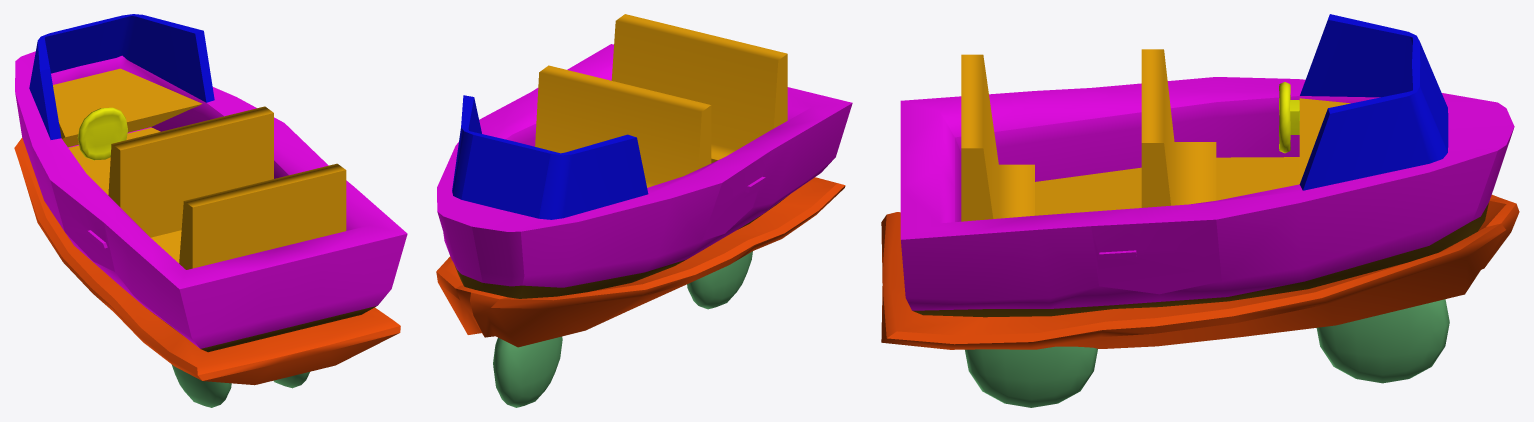
File: Boat.fbx
The picture shows the model from 3 angles, left to right: view 1: azimuth 30°, elevation 25°; view 2: azimuth 150°, elevation 25°; view 3: azimuth 270°, elevation 25°; orthographic projection. The views are drawn at different scales.
Visible parts, largest first — view 1: Boat, Seats, Wheel, BL_Tire; view 2: Boat, Seats, Front_Tire, BL_Tire; view 3: Boat, Seats, Front_Tire, BR_Tire, Wheel.
Part boxes in pixels (x1=…): Boat: x1=14, y1=14, x2=407, y2=385; Seats: x1=53, y1=68, x2=346, y2=269; Wheel: x1=77, y1=107, x2=127, y2=160; BL_Tire: x1=171, y1=364, x2=231, y2=407; Boat: x1=436, y1=44, x2=852, y2=347; Seats: x1=535, y1=14, x2=787, y2=187; Front_Tire: x1=493, y1=336, x2=562, y2=407; BL_Tire: x1=687, y1=251, x2=752, y2=309; Boat: x1=881, y1=14, x2=1519, y2=349; Seats: x1=961, y1=49, x2=1350, y2=221; Front_Tire: x1=1316, y1=299, x2=1449, y2=383; BR_Tire: x1=965, y1=346, x2=1097, y2=407; Wheel: x1=1279, y1=82, x2=1299, y2=153.
Size of the model in its own units: 4.19 by 4.37 by 7.92.
